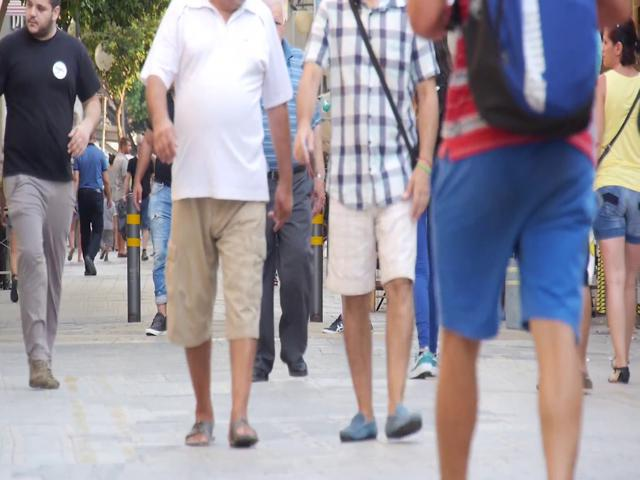shoe: (385, 407, 422, 438), (338, 415, 378, 441), (229, 419, 258, 448), (185, 419, 215, 445), (409, 351, 432, 378), (145, 312, 168, 336), (287, 358, 307, 376), (608, 366, 629, 382)
